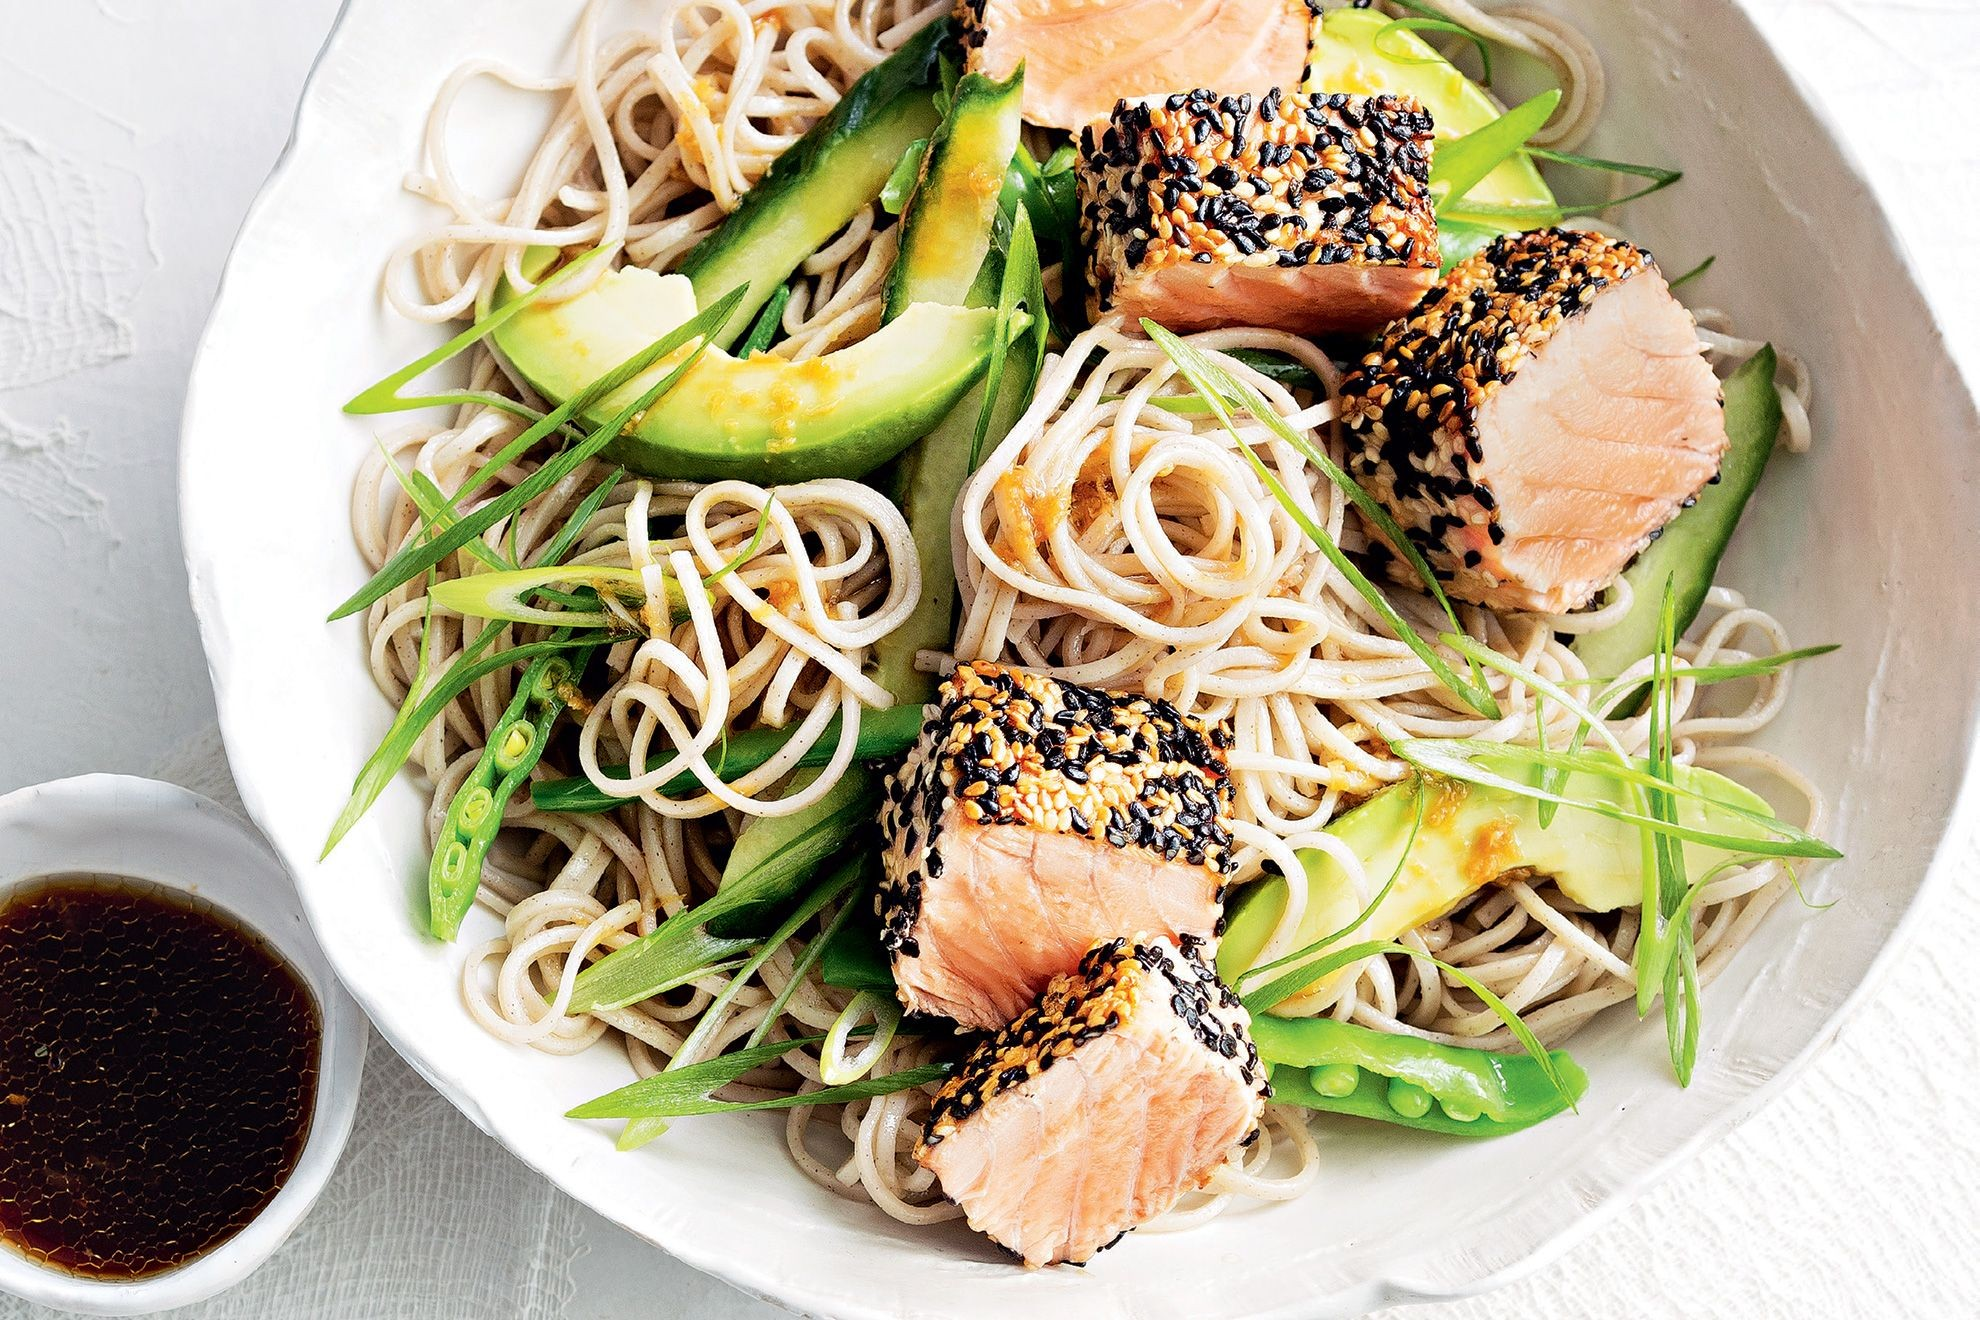Soba: (348, 10, 1868, 1249)
